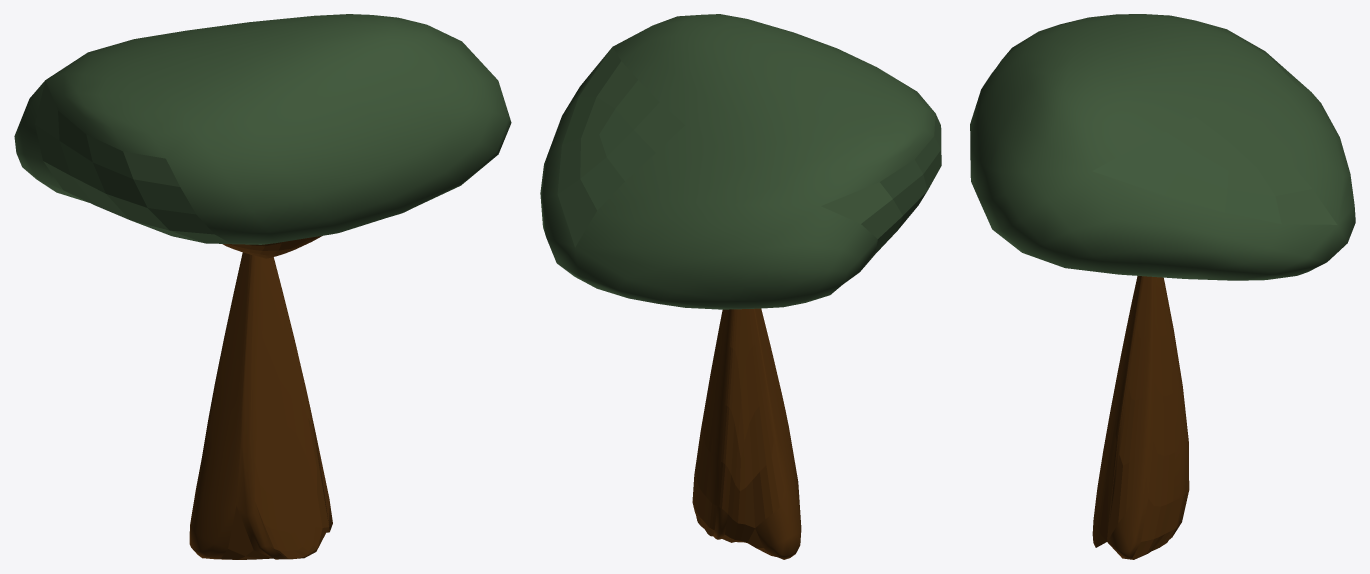
The model's file is TreeColl.fbx.
3 views of the same model, side by side, from view 1: azimuth 30°, elevation 25°; view 2: azimuth 150°, elevation 25°; view 3: azimuth 270°, elevation 25° (orthographic). The views are drawn at different scales.
Visible parts, largest first — view 1: Cube.001, Cube.002, Cube; view 2: Cube.001, Cube.002; view 3: Cube.001, Cube.002.
Boxes of the visible parts, left/top/right/bottom form: Cube.001: left=14, top=14, right=511, bottom=244; Cube.002: left=189, top=252, right=332, bottom=559; Cube: left=222, top=235, right=322, bottom=258; Cube.001: left=540, top=14, right=941, bottom=309; Cube.002: left=692, top=308, right=801, bottom=559; Cube.001: left=970, top=14, right=1355, bottom=280; Cube.002: left=1092, top=276, right=1189, bottom=559.
Size of the model in its own units: 1535 by 2025 by 1437.
Materials: 3 (2 with a texture image).
